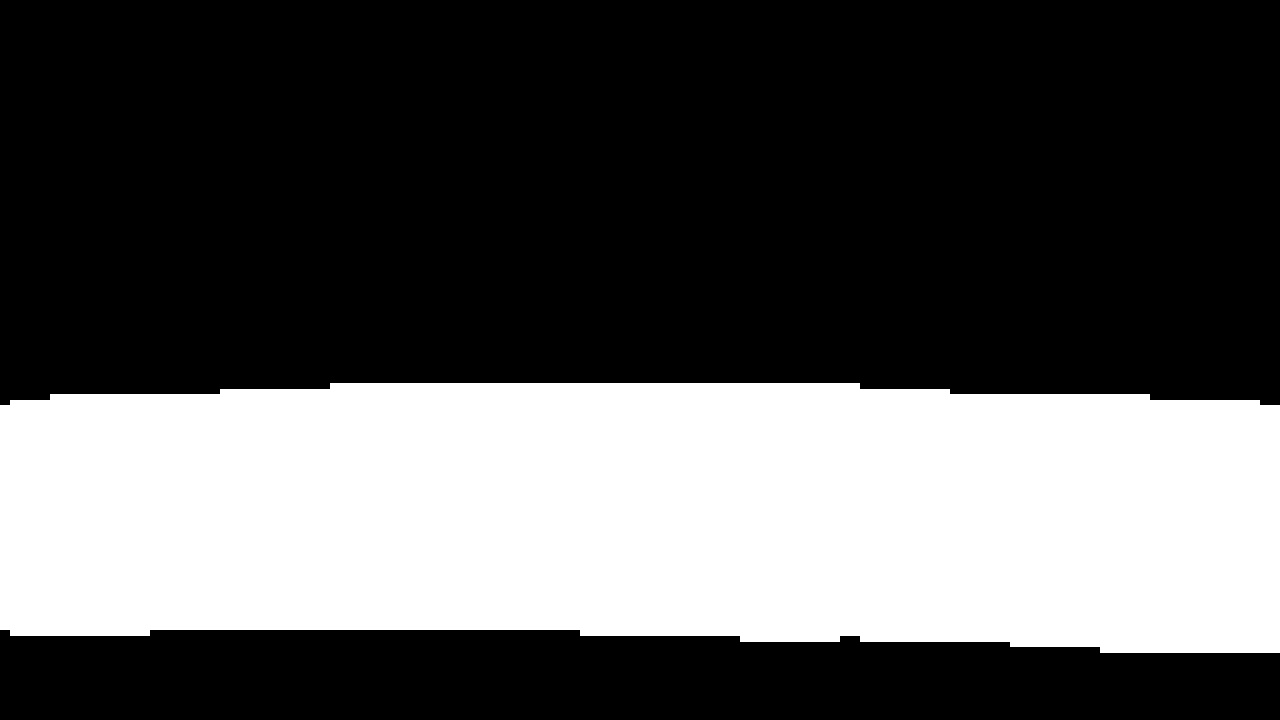Turbine: (14, 363, 1272, 669)
